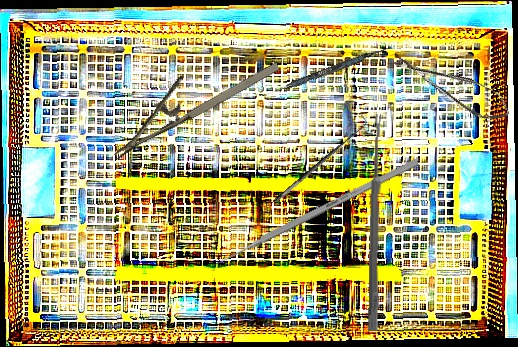Hook Surgical: (268, 113, 373, 204)
Micro Scissor: (390, 43, 515, 129)
Needle Holder: (96, 34, 283, 160)
Pusher: (205, 157, 419, 273)
Spatula Surgical: (258, 42, 392, 102)
Surgical Spoon: (368, 113, 383, 332)
